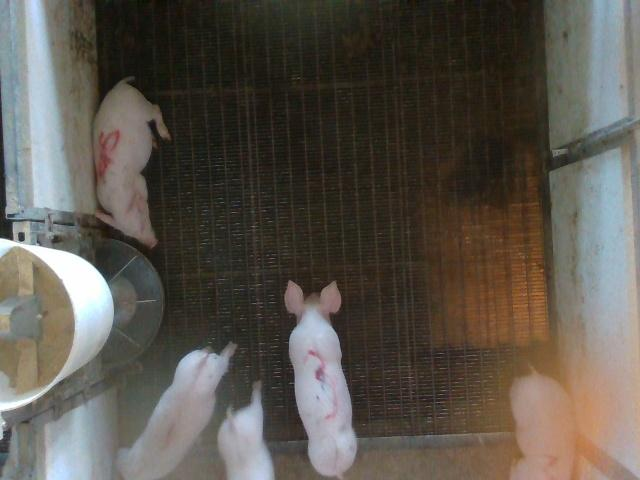pig-1: (116, 344, 235, 479)
pig-2: (510, 370, 575, 478)
pig-3: (285, 281, 358, 477)
pig-5: (94, 76, 171, 247)
